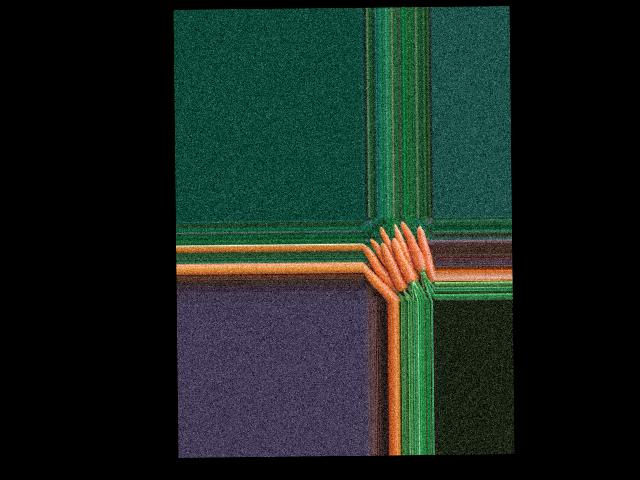carrot: (362, 255, 402, 300)
